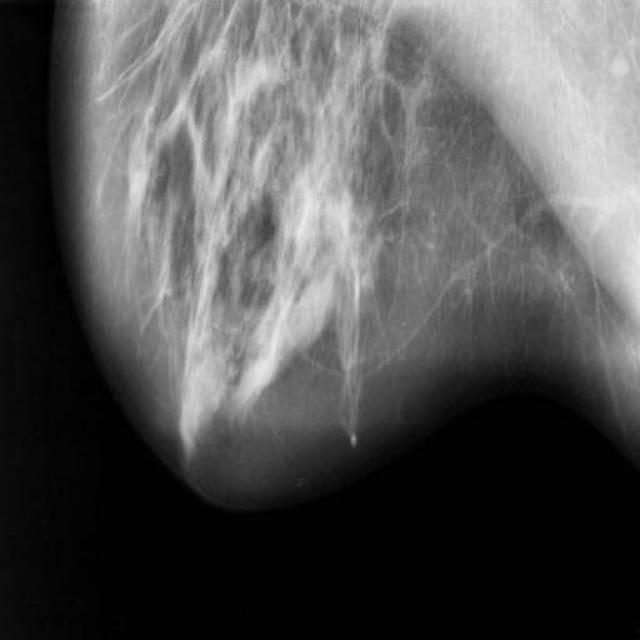cancer: (336, 318, 378, 413)
